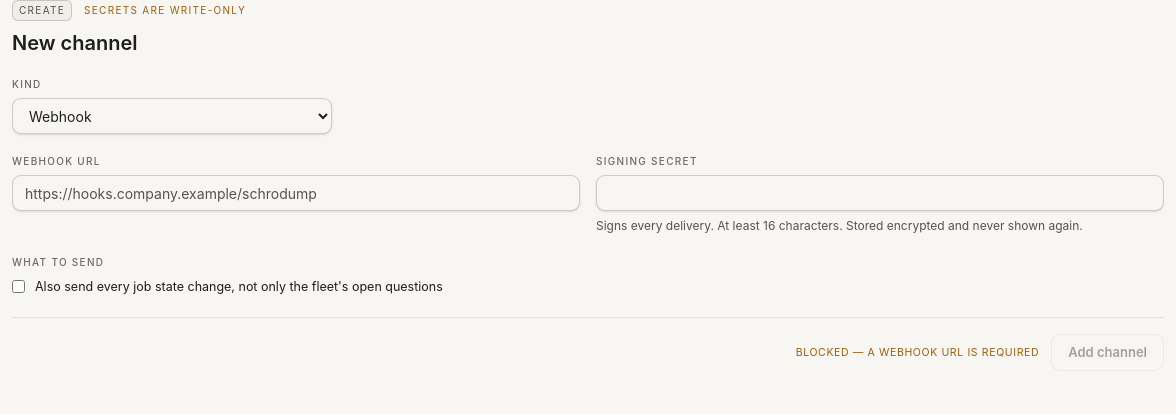
Test: ChannelForm — the job firehose is a choice, and a loud one › states the volume before the choice is made, not after
Check: the text "high volume" is not shown
Click the checkbox named "every job state change": (18,286) [12,280,25,293]
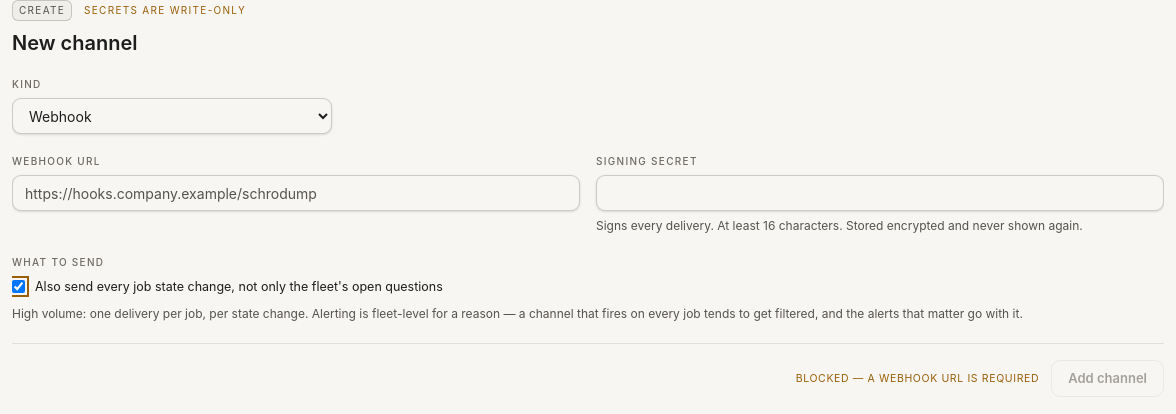
Check: the text "High volume" is shown, box [12,306,1023,321]
